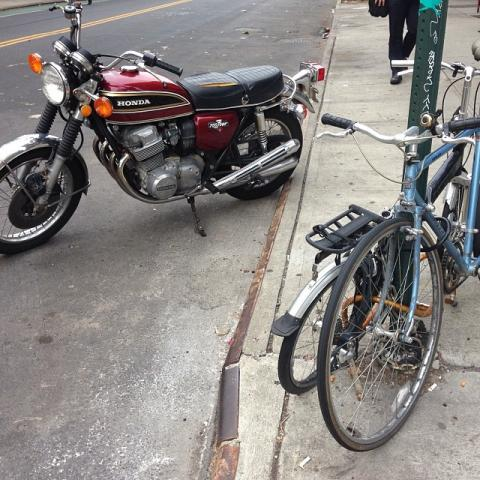motorcycle: (0, 9, 301, 255)
